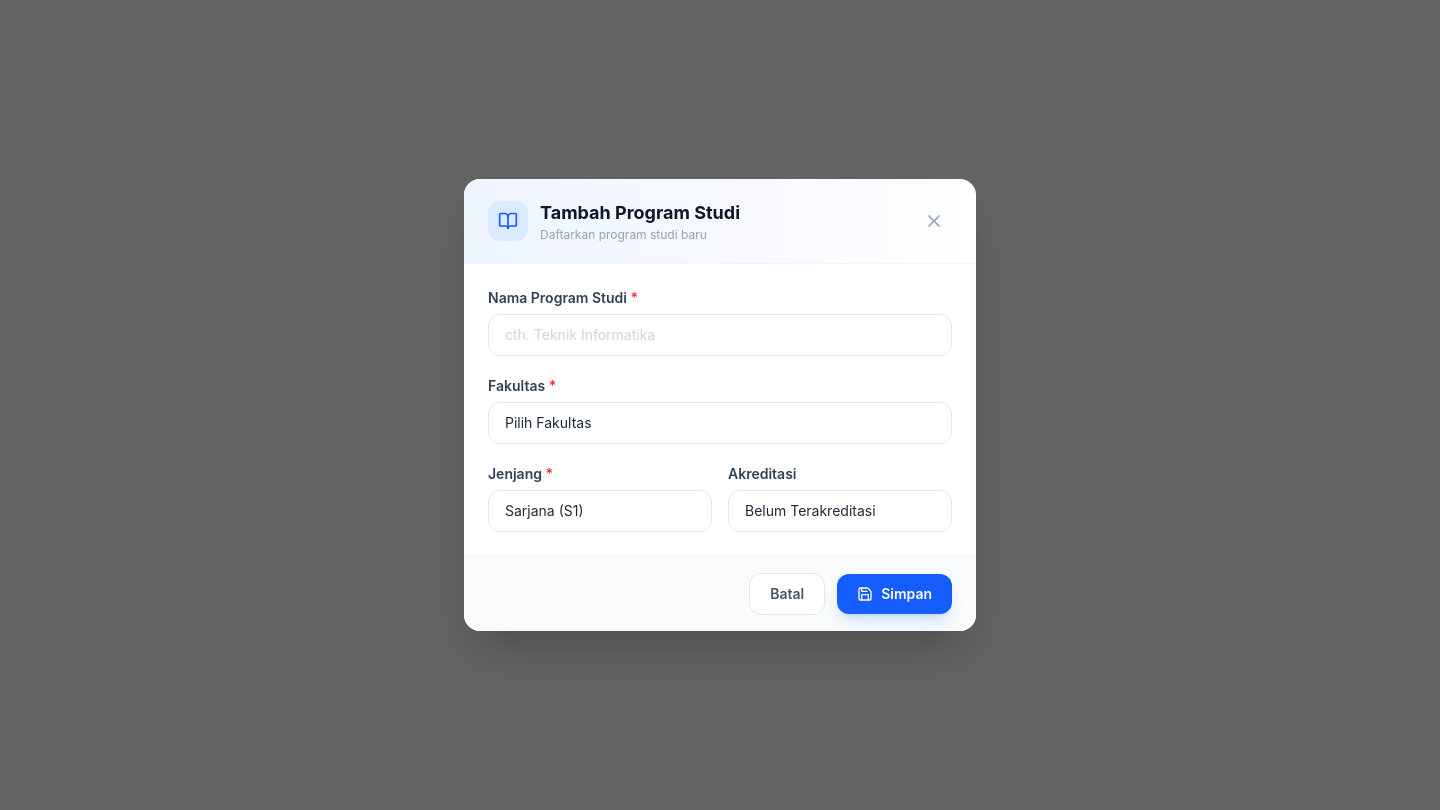
Test: CRUD modal required-field validation › menampilkan warning nama program studi dan fakultas secara bersamaan
The image size is (1440, 810).
Click the button "Simpan" at (895, 594), box [837,574,952,614]
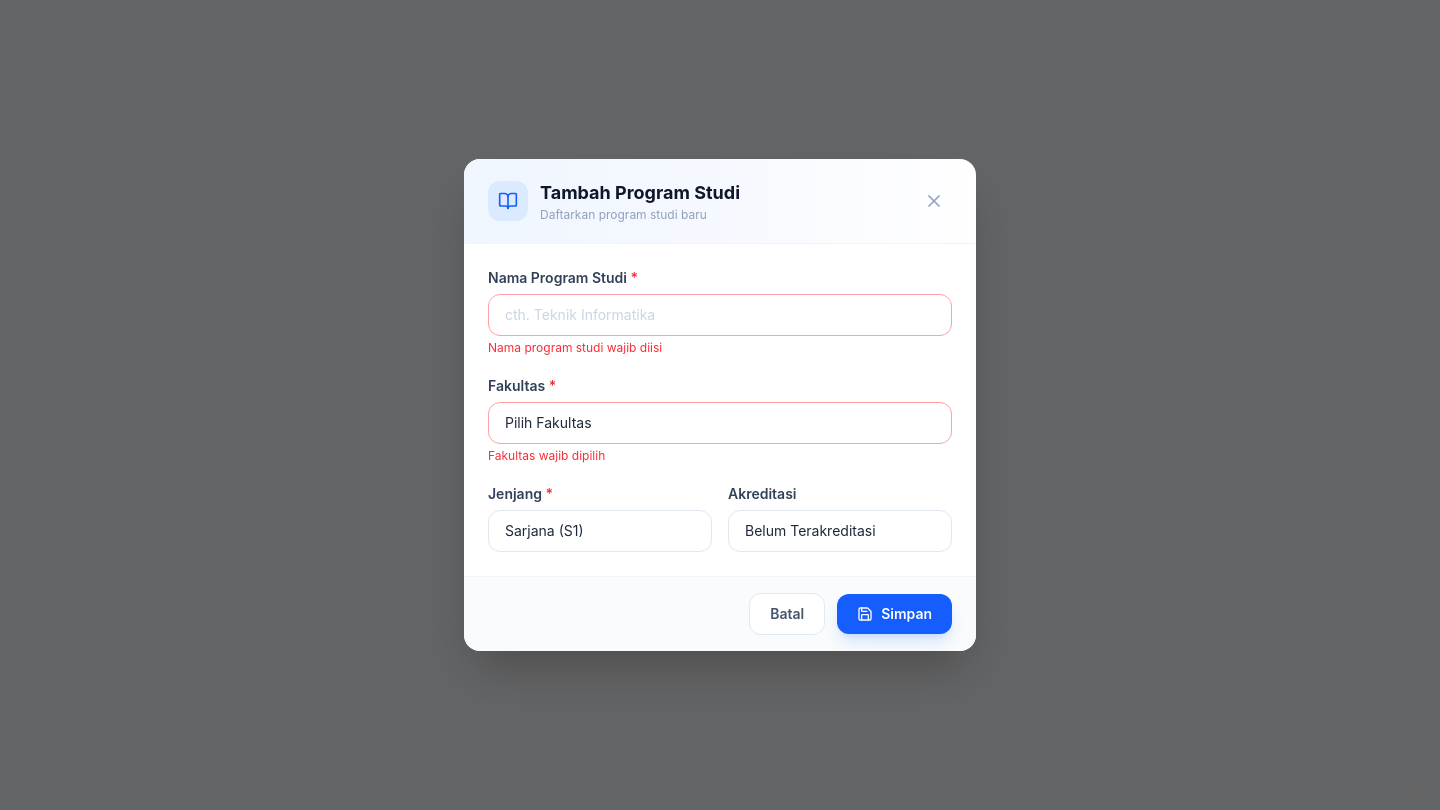
Result: the text "Nama program studi wajib diisi" is shown at [488,340,662,355]
Result: the text "Fakultas wajib dipilih" is shown at [488,448,605,463]
Type "Teknik Informatika" into the field labelled "Nama Program Studi *" at (720, 315), box [488,294,952,336]
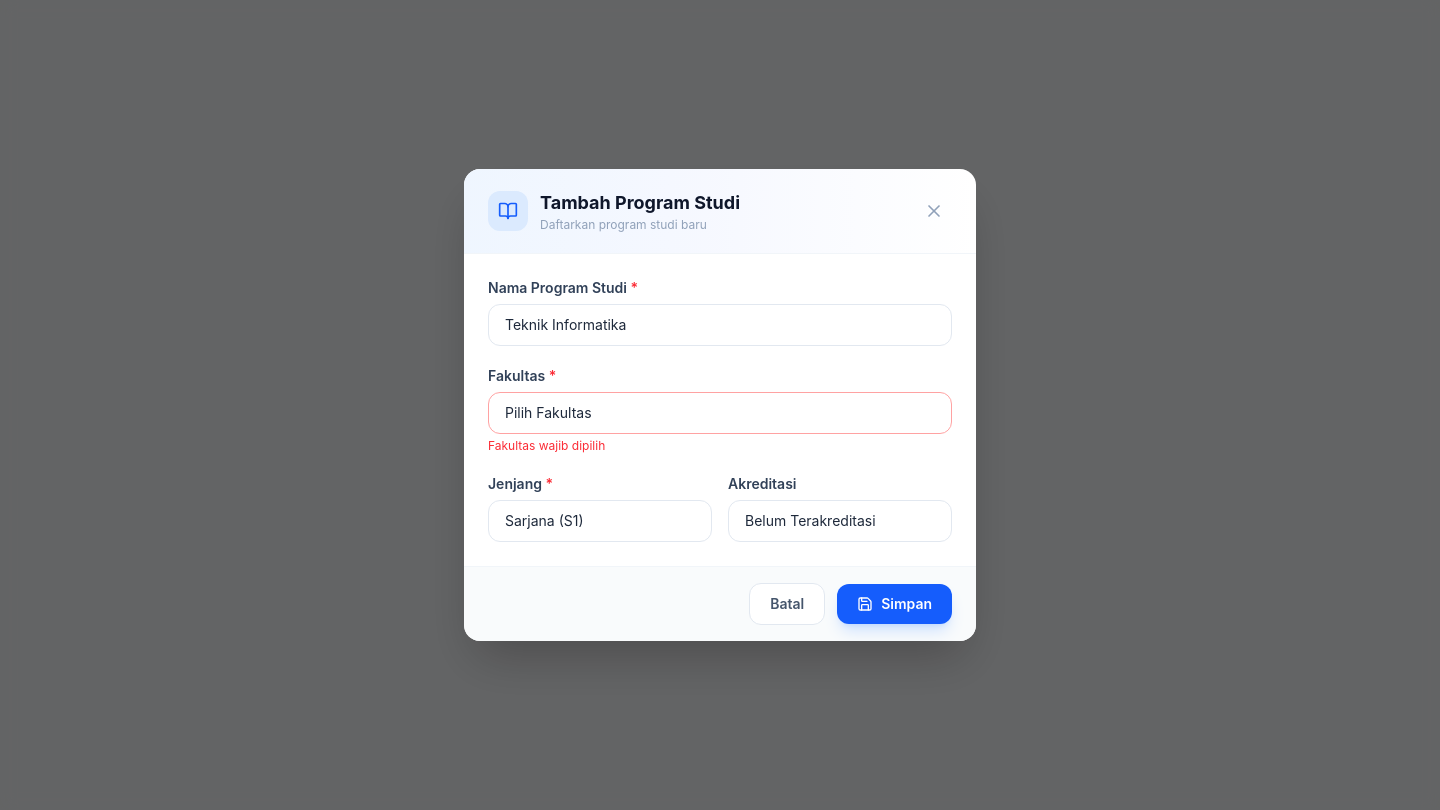
Result: the text "Nama program studi wajib diisi" is gone
